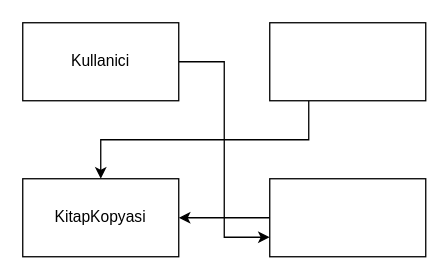
The diagram is 448 pixels wide and 280 high, and some of its shapes have lost their labels. The shapes that lost their labels are listed below. From the top down, each one's box as (x1, y1, x2, y2) in pixels, then its label:
(268, 21, 426, 101): Kitap
(268, 177, 426, 257): OduncKaydi
